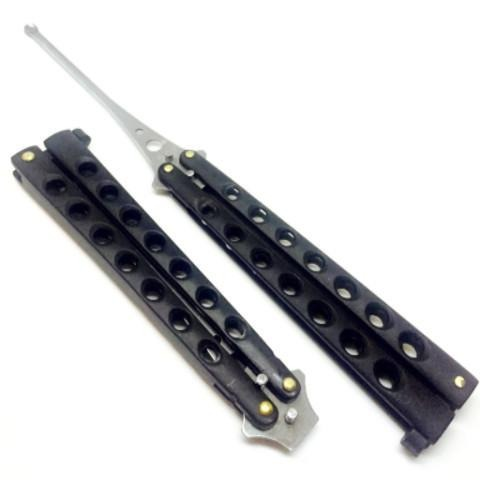knife: (19, 19, 476, 457), (1, 118, 328, 468)
